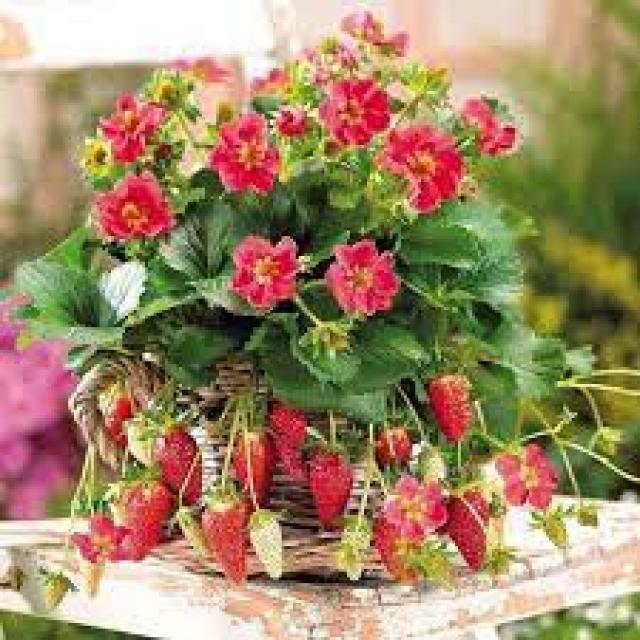Fruta sana: (192, 488, 250, 592), (106, 472, 168, 560), (434, 490, 494, 572), (298, 446, 352, 532), (372, 506, 428, 584), (154, 422, 200, 500), (427, 373, 474, 440), (238, 420, 274, 503), (270, 403, 309, 479), (96, 385, 130, 444), (372, 426, 410, 466)
